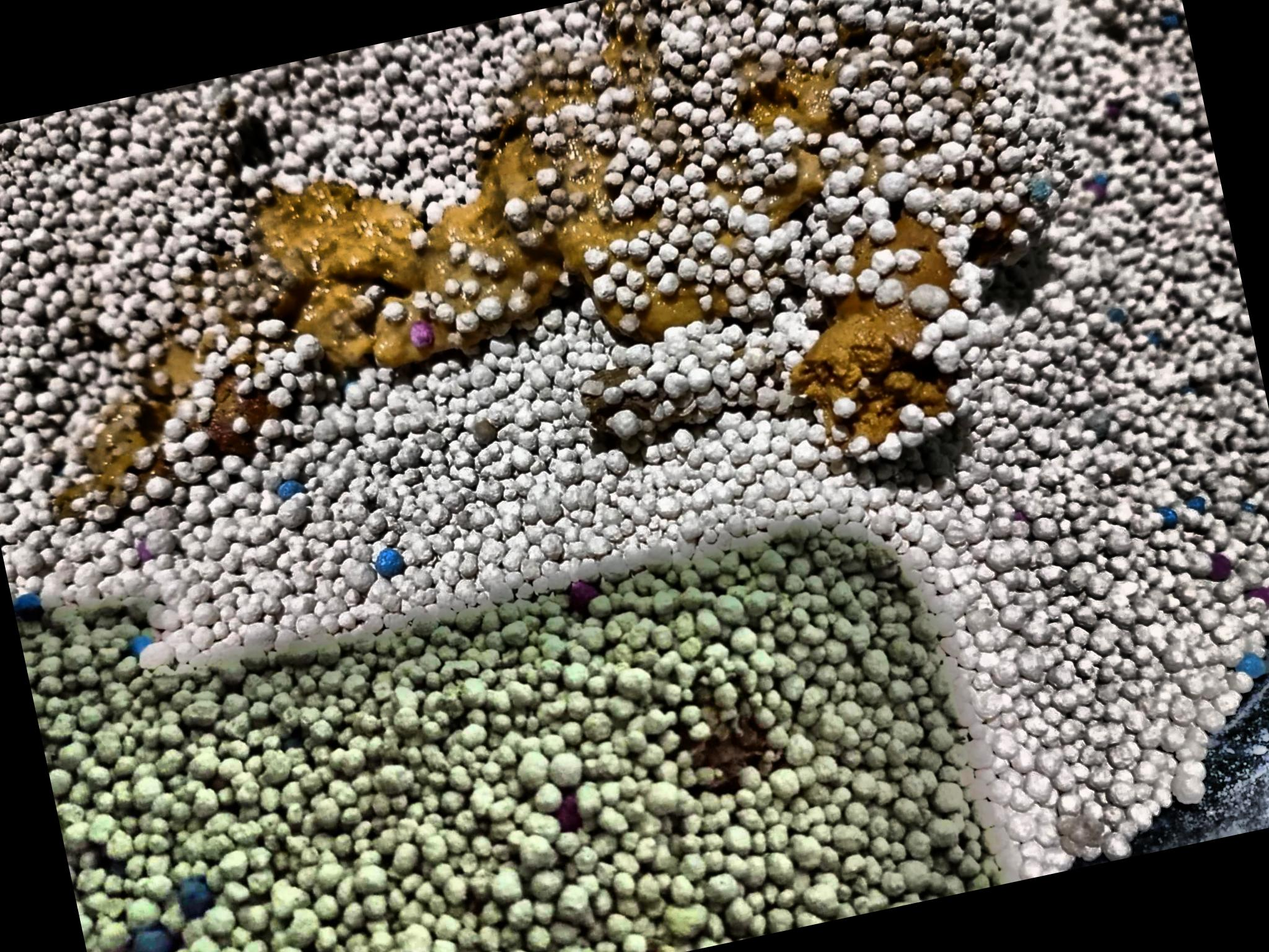poop: (58, 0, 1061, 519)
